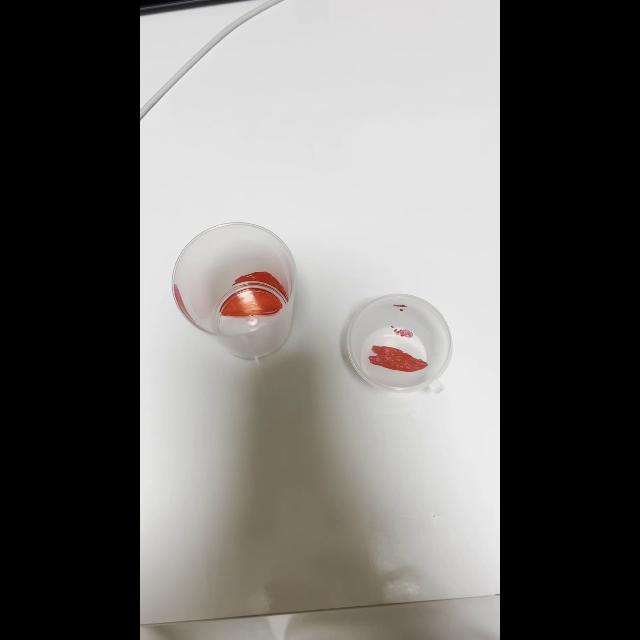dirty: (180, 222, 304, 360), (343, 291, 461, 399)
